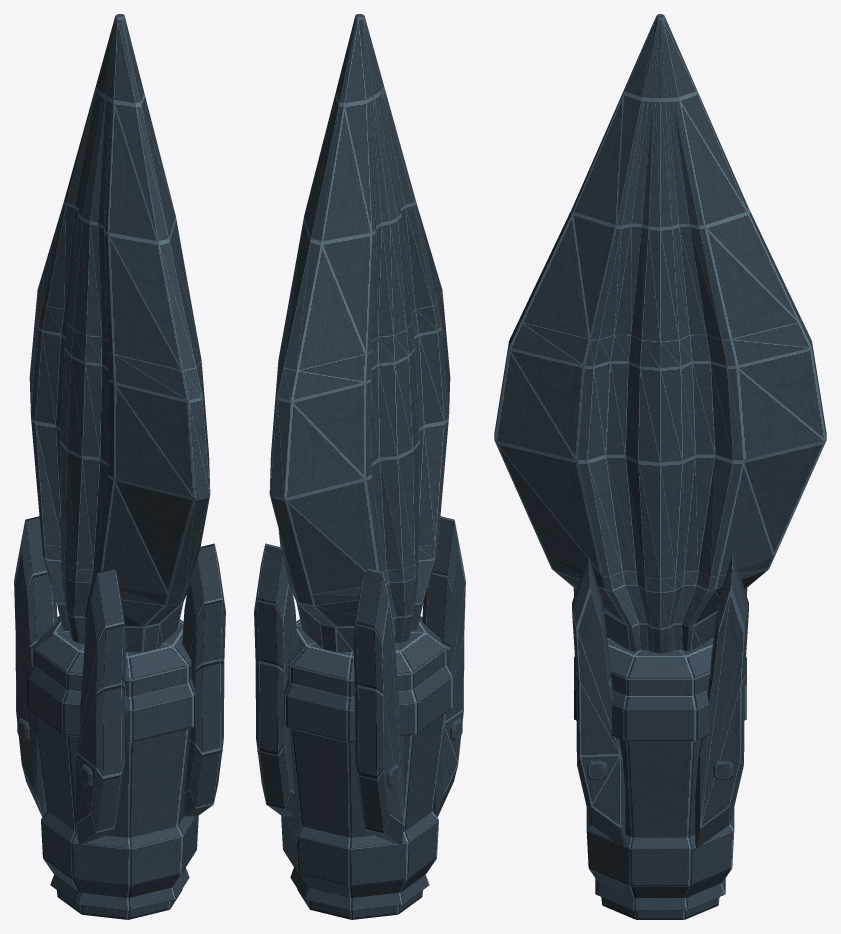
Rendered from workpiece_xuantie_spear_quenched.obj.
The picture shows the model from 3 angles, left to right: view 1: azimuth 30°, elevation 25°; view 2: azimuth 150°, elevation 25°; view 3: azimuth 270°, elevation 25°; orthographic projection.
Parts seen in each view (by area): view 1: geometry; view 2: geometry; view 3: geometry.
Part boxes in pixels (x1,y1,x2,y2): geometry: [14, 14, 225, 919]; geometry: [254, 14, 465, 919]; geometry: [494, 14, 826, 919].
Size of the model in its own units: 0.1113 by 0.6244 by 0.2138.
